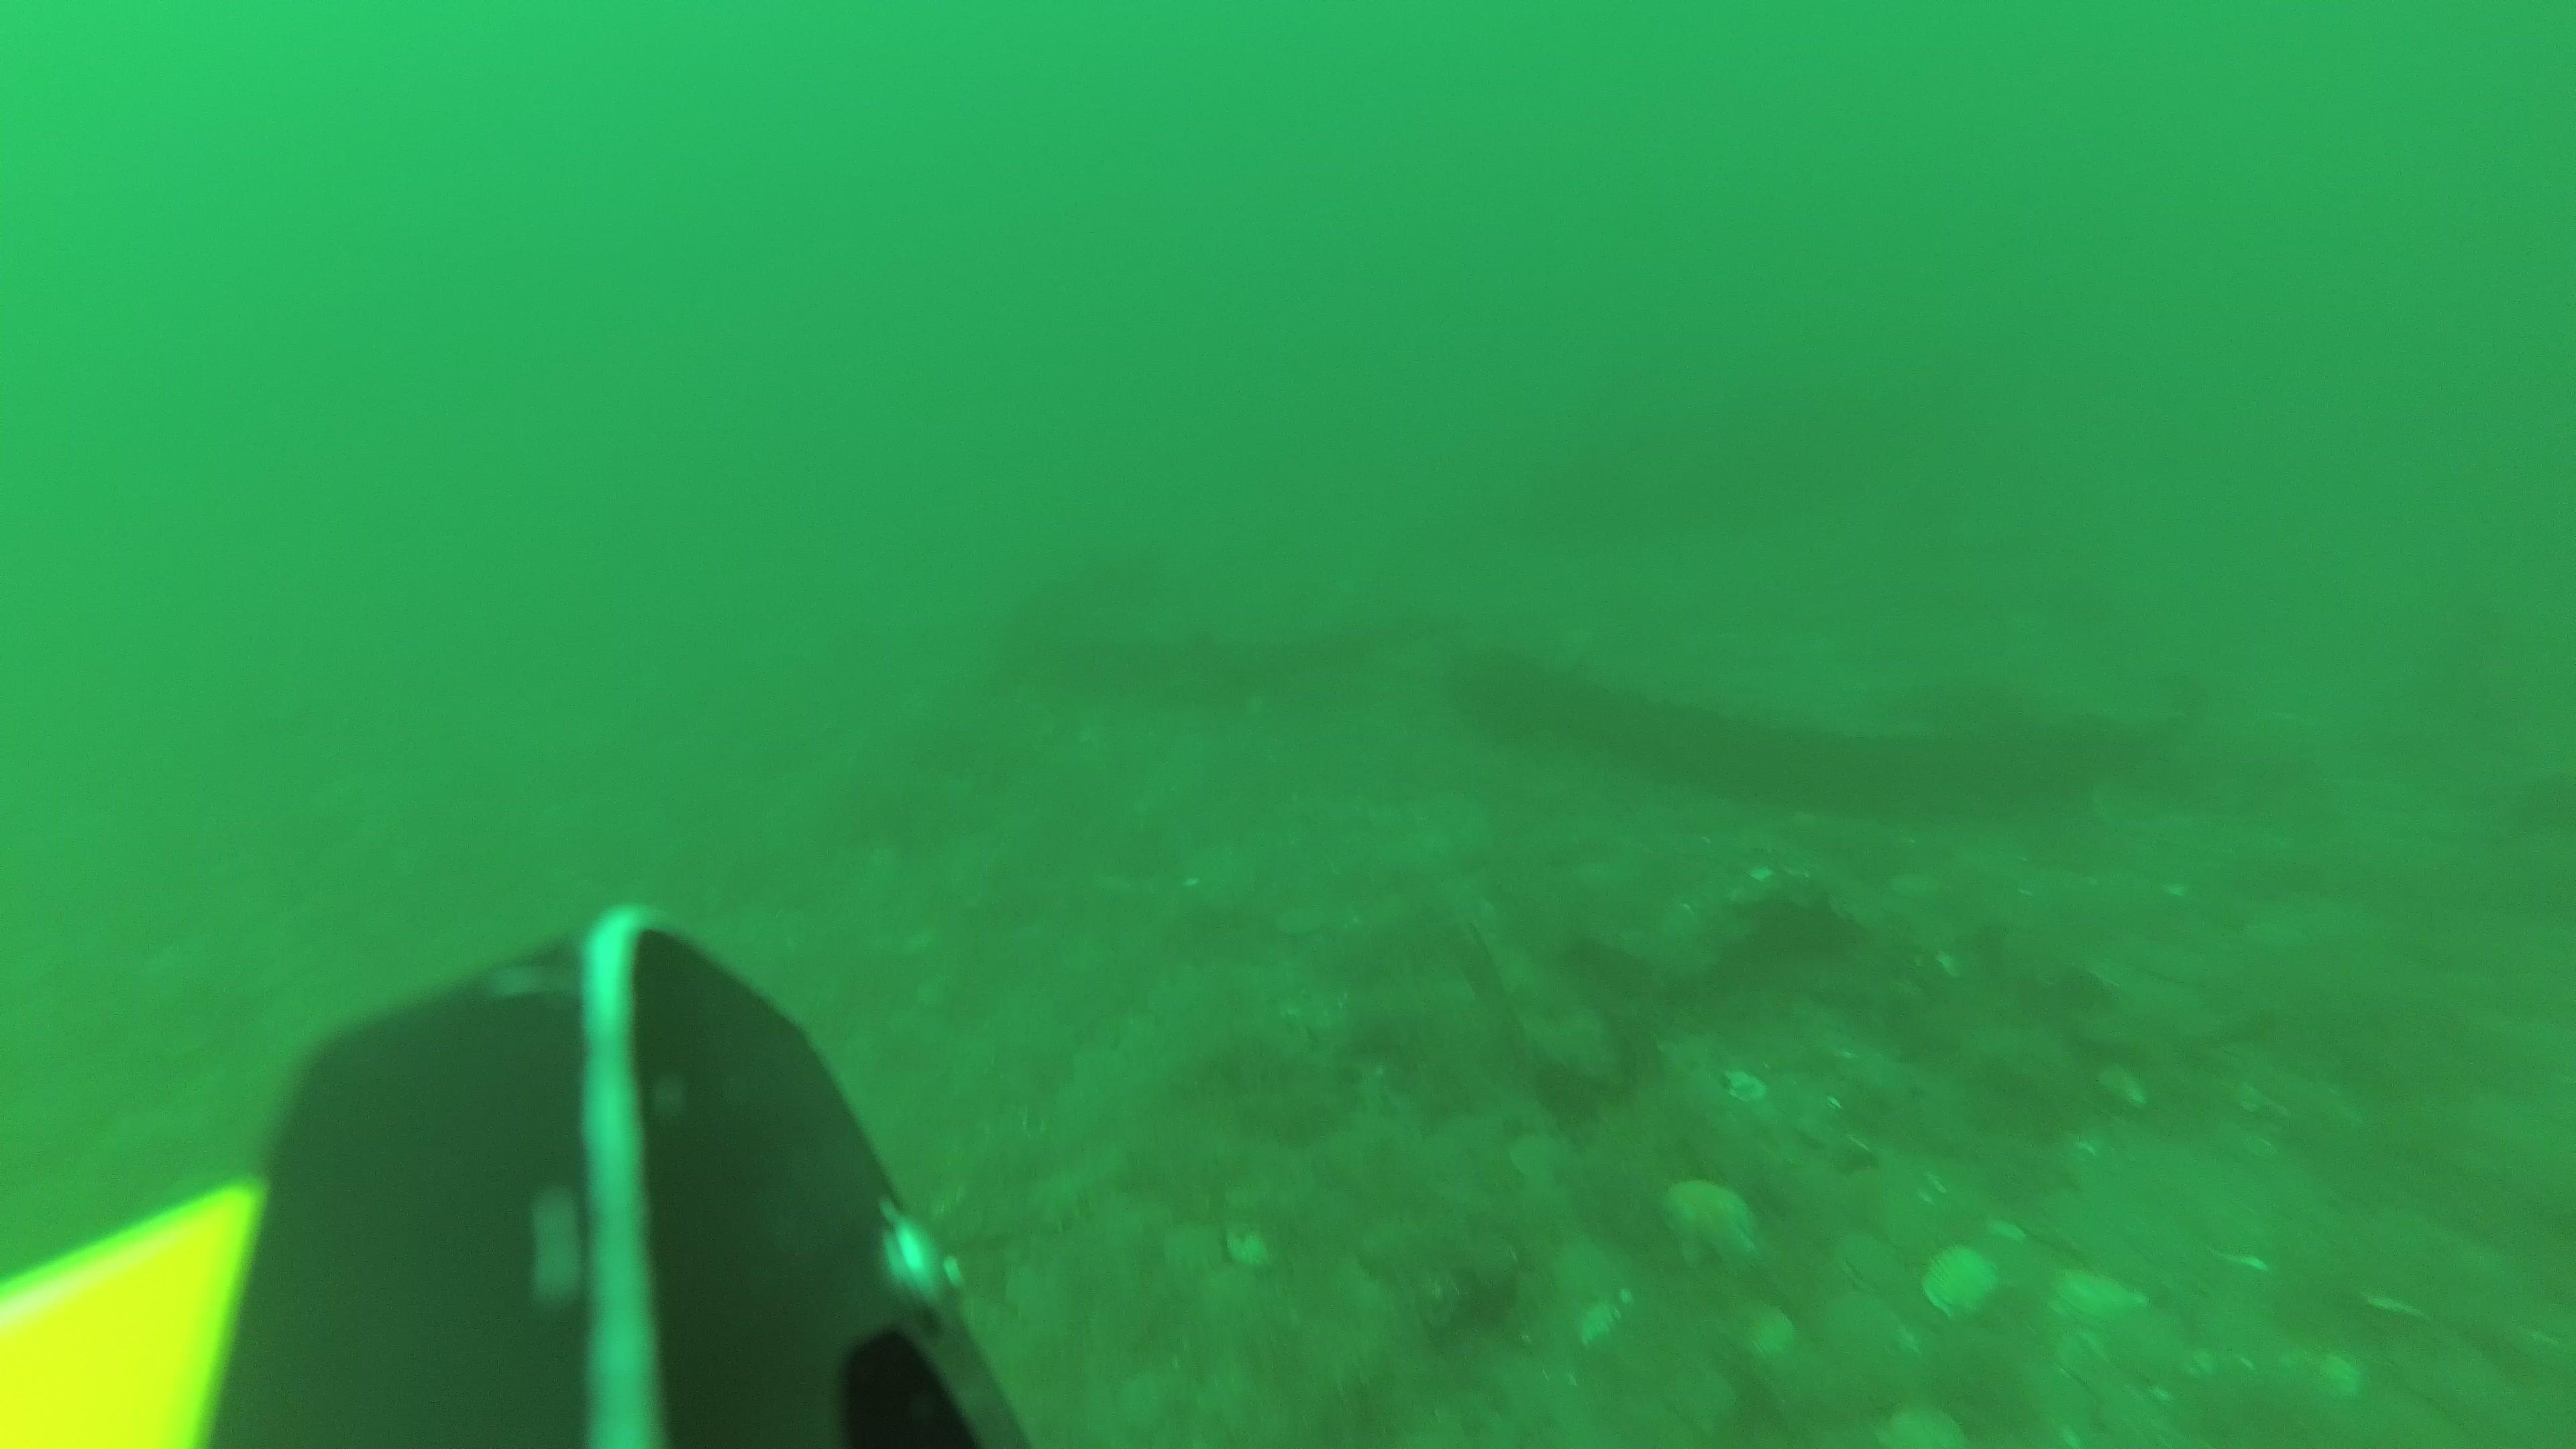holothurian: (939, 1138, 1123, 1269), (904, 1102, 1063, 1235)
scallop: (1667, 1166, 1767, 1270), (1836, 1223, 1932, 1299), (1925, 1235, 2003, 1325), (2051, 1270, 2151, 1339), (1555, 1235, 1635, 1309), (1879, 1187, 1960, 1260), (1886, 1407, 1974, 1449)
